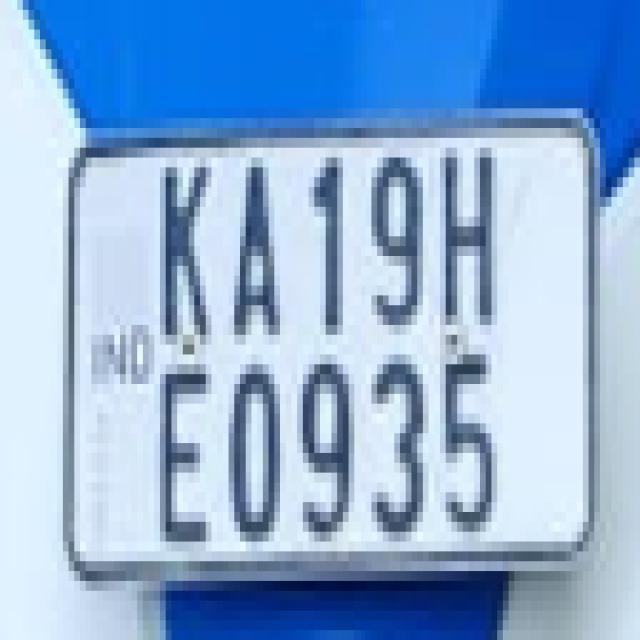0: (222, 357, 286, 554)
1: (304, 138, 350, 351)
3: (368, 352, 428, 544)
5: (439, 345, 502, 538)
9: (362, 144, 424, 339), (295, 352, 354, 546)
A: (227, 145, 288, 355)
E: (156, 358, 212, 558)
H: (437, 130, 495, 336)
K: (154, 145, 212, 349)
